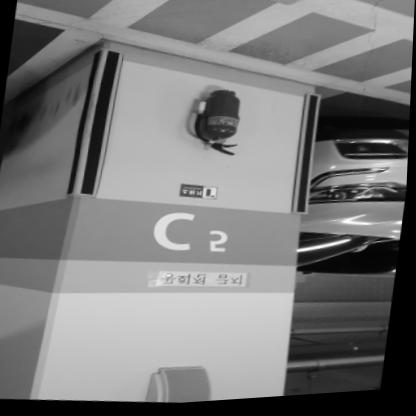FE: (189, 89, 248, 162)
